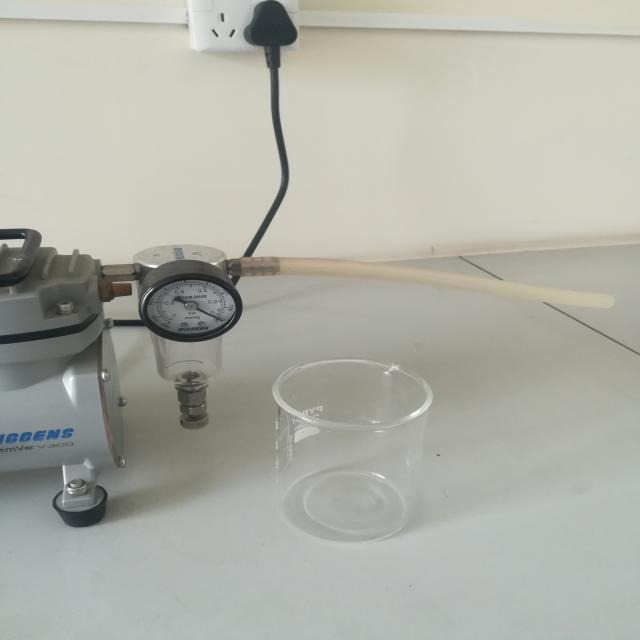Beaker: (226, 324, 463, 574)
